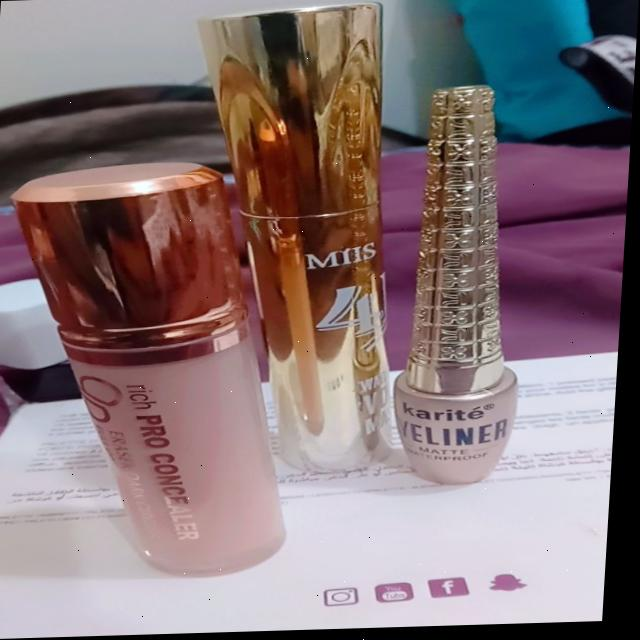concealer: (0, 151, 324, 585)
eye liner: (391, 71, 547, 506)
lip stick: (178, 0, 422, 482)
